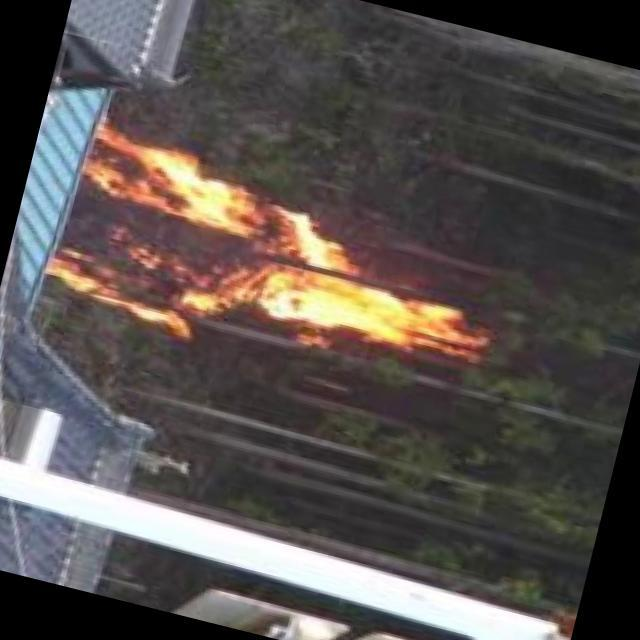Fire: (31, 116, 482, 410)
